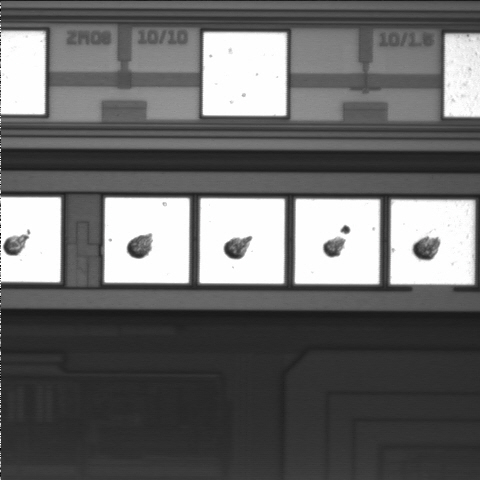pad: (200, 198, 285, 284), (104, 198, 189, 283), (295, 199, 380, 284), (390, 200, 475, 284), (203, 32, 286, 116)
